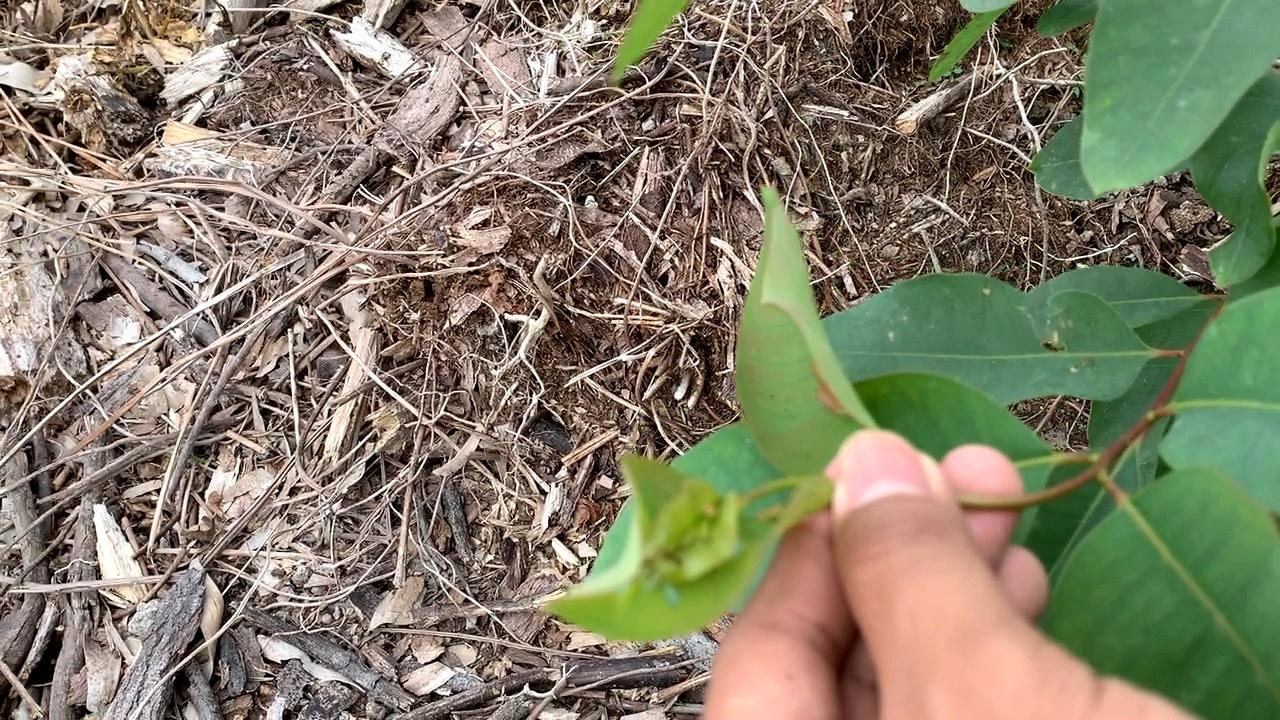Leaf Roller - Leaf: (547, 450, 785, 650)
